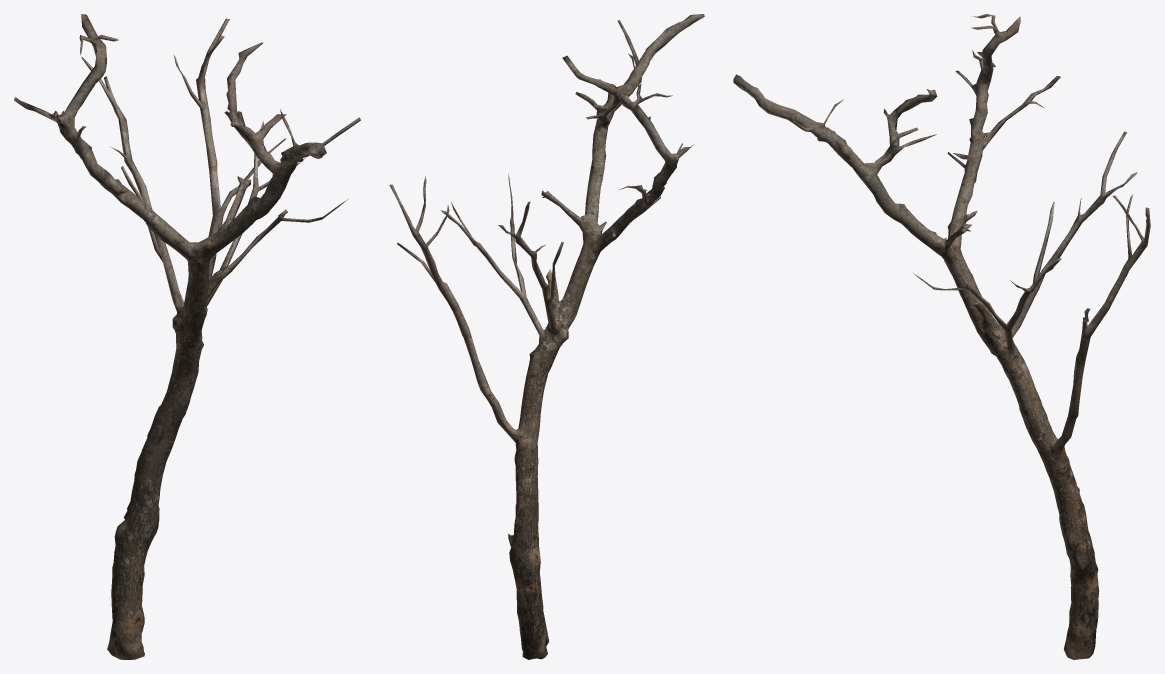
Rendered from tree-trunk.glb.
The picture shows the model from 3 angles, left to right: view 1: azimuth 30°, elevation 25°; view 2: azimuth 150°, elevation 25°; view 3: azimuth 270°, elevation 25°; orthographic projection. The views are drawn at different scales.
Parts seen in each view (by area): view 1: tree_small_02_trunk; view 2: tree_small_02_trunk; view 3: tree_small_02_trunk.
Boxes of the visible parts, x1,y1,x2,y2 form: tree_small_02_trunk: (14,14,360,659); tree_small_02_trunk: (389,14,704,659); tree_small_02_trunk: (733,14,1150,659).
Bounding box in the file's own units: 1.69 × 3.69 × 2.31.
Materials: 1 (1 with a texture image).
